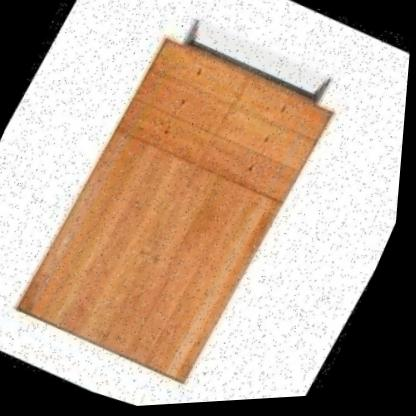Closet: (0, 0, 372, 415)
